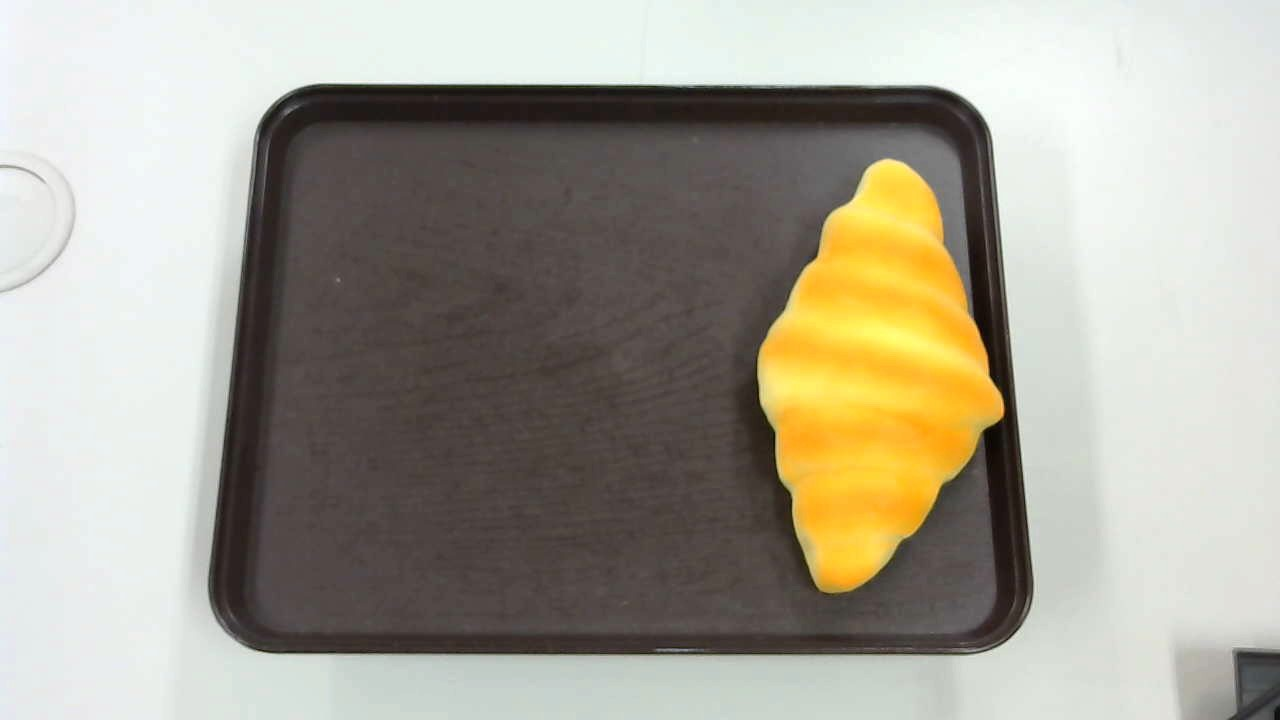croissant: (757, 157, 1005, 595)
